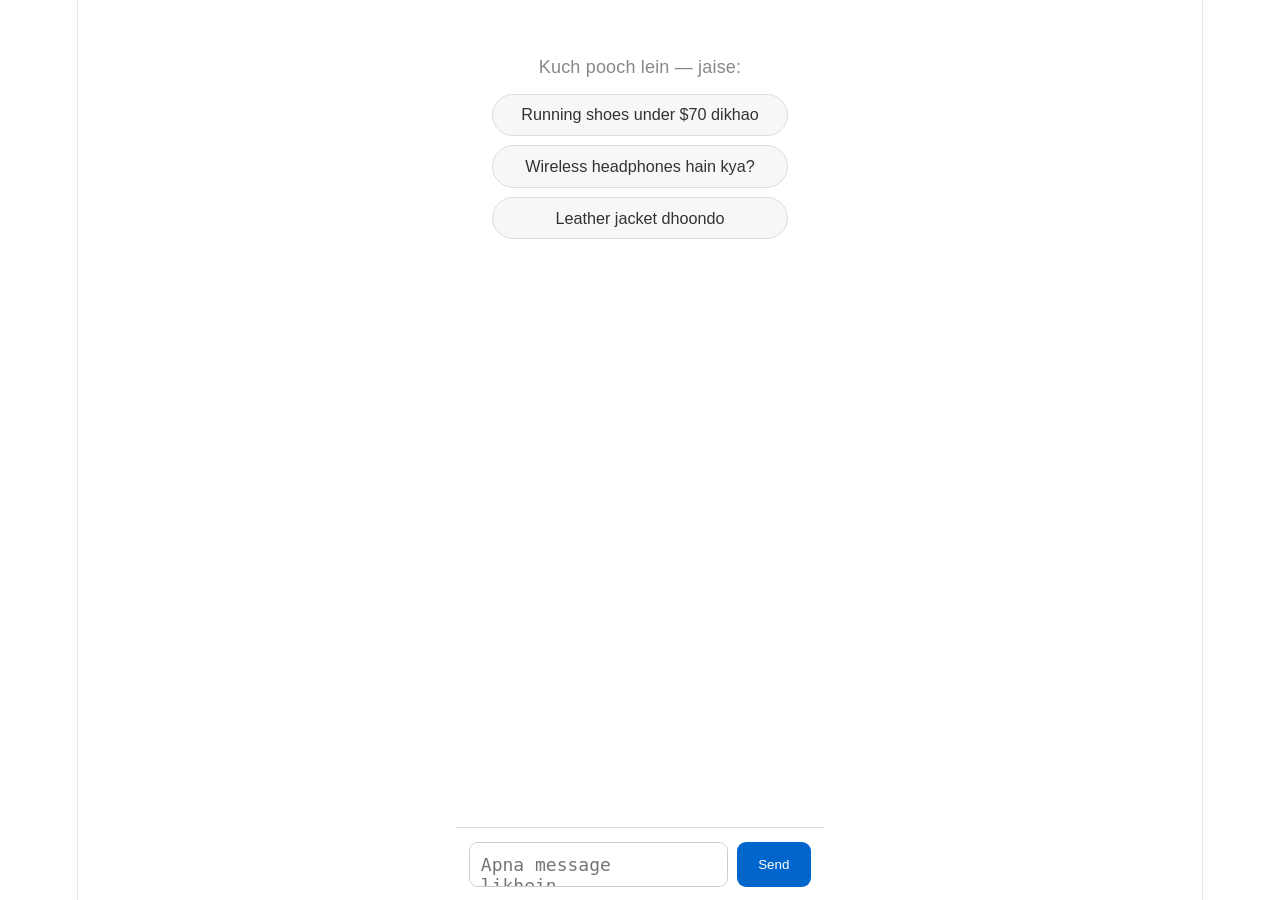
Test: empty state › clicking an example prompt fills the input
Step 1. Click the button "Leather jacket dhoondo" → (640, 218), box [492,197,788,239]
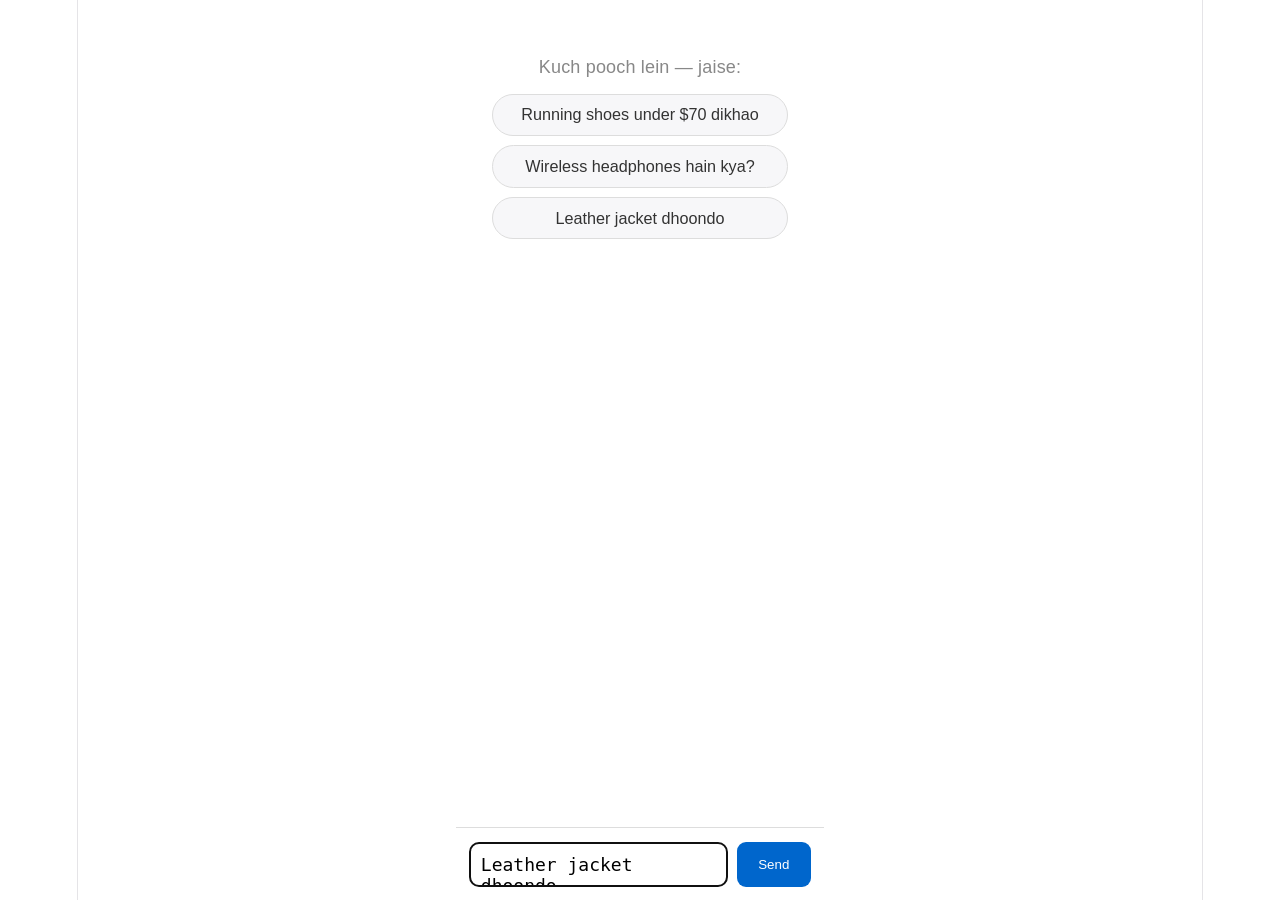
Check: the text box holds "Leather jacket dhoondo", box [469,842,728,886]
